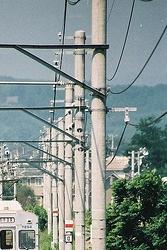train: (0, 200, 40, 250)
